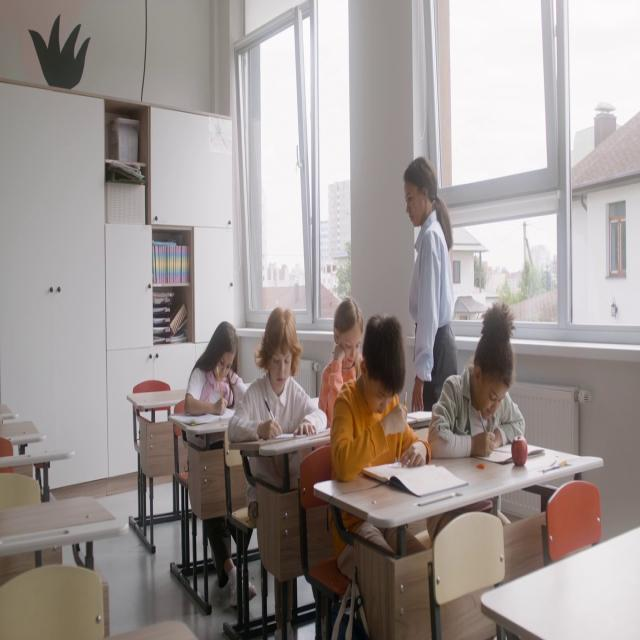reading: (319, 296, 365, 429)
writing: (325, 316, 428, 640), (184, 324, 254, 606), (229, 309, 325, 512), (429, 303, 525, 467)
